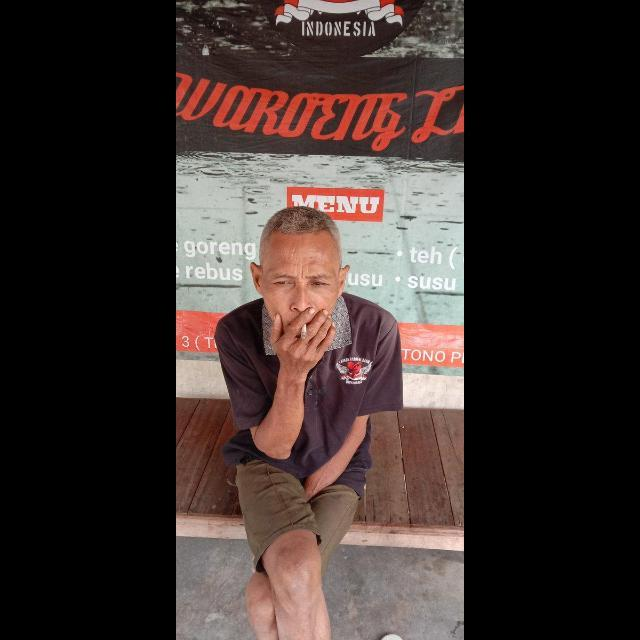rokok: (298, 314, 312, 344)
